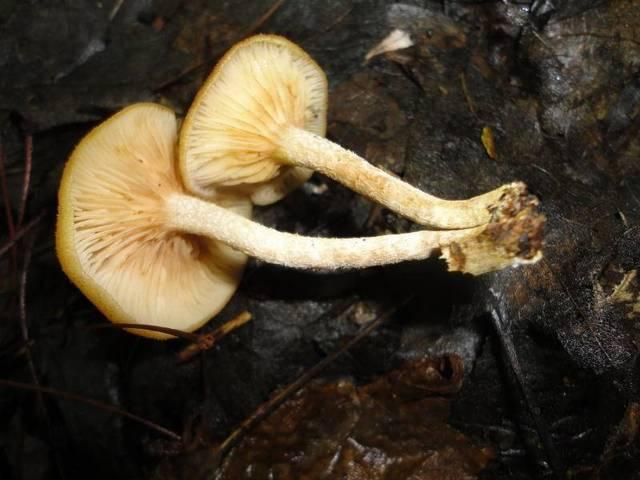edible_mushroom: (54, 31, 547, 342)
